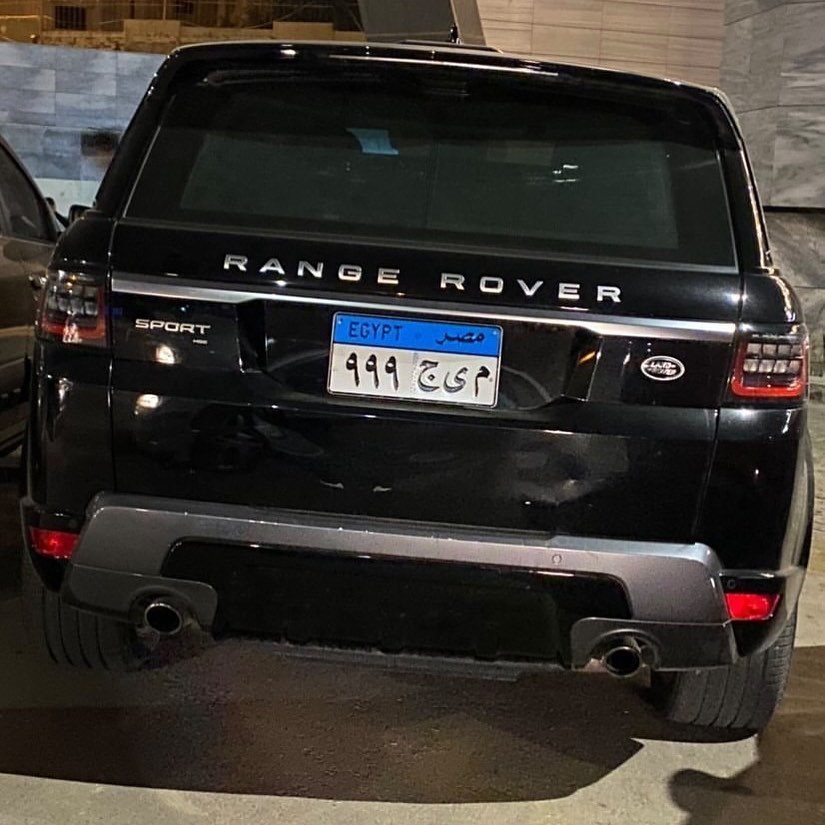carpl: (322, 299, 507, 410)
